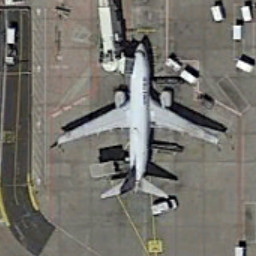Airplane: (45, 31, 229, 210)
